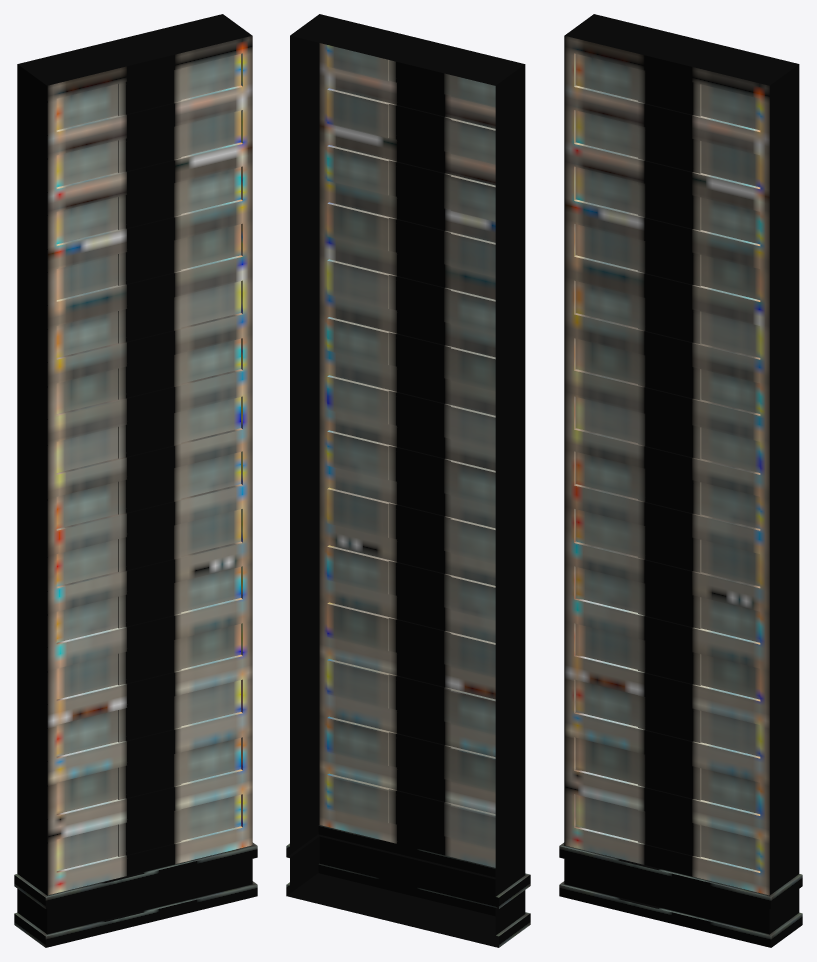
Rendered from Pagoda_Body_Tile_1250x5000_B.FBX.
3 renders of one model, left to right at view 1: azimuth 30°, elevation 25°; view 2: azimuth 150°, elevation 25°; view 3: azimuth 330°, elevation 25°, orthographic.
Parts seen in each view (by area): view 1: Geometry_Pagoda_Body_Tile_1250x5000_B_LOD00; view 2: Geometry_Pagoda_Body_Tile_1250x5000_B_LOD00; view 3: Geometry_Pagoda_Body_Tile_1250x5000_B_LOD00.
Boxes of the visible parts, x1=… form: Geometry_Pagoda_Body_Tile_1250x5000_B_LOD00: x1=14, y1=14, x2=257, y2=947; Geometry_Pagoda_Body_Tile_1250x5000_B_LOD00: x1=286, y1=14, x2=530, y2=947; Geometry_Pagoda_Body_Tile_1250x5000_B_LOD00: x1=559, y1=14, x2=802, y2=947.
Size of what is drawn, in the model's own units: 1290 by 5000 by 333.
